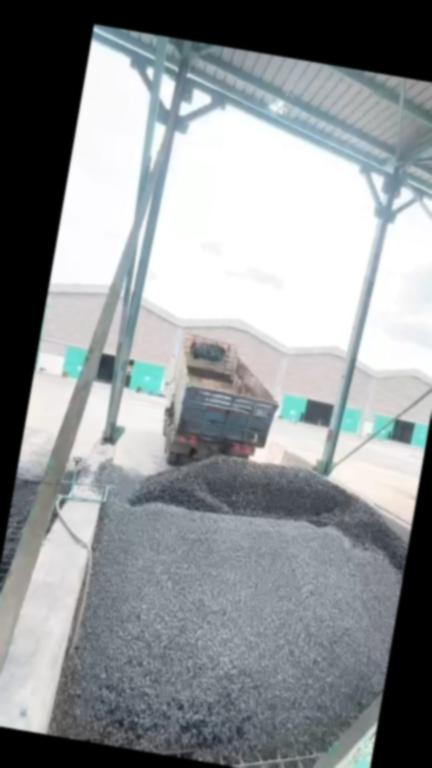gravel: (56, 457, 397, 764), (129, 456, 407, 574), (44, 469, 73, 538), (9, 472, 41, 518)
